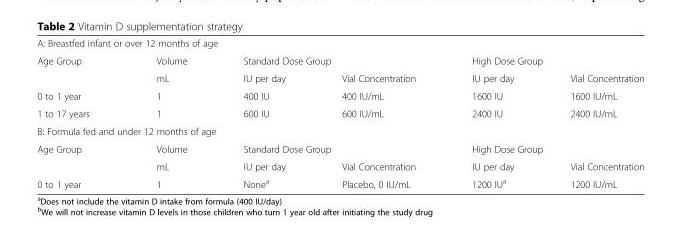table: (36, 37, 643, 189)
table column: (312, 37, 443, 189), (541, 37, 643, 189), (214, 37, 312, 189), (443, 37, 541, 189), (122, 37, 214, 189), (36, 37, 122, 189)
table projected row header: (36, 122, 643, 139), (36, 37, 643, 51)
table row: (36, 51, 643, 69), (36, 86, 643, 104), (36, 104, 643, 122), (36, 139, 643, 157), (36, 69, 643, 86), (36, 122, 643, 139), (36, 157, 643, 174), (36, 174, 643, 189), (36, 37, 643, 51)
table spanning cell: (214, 51, 443, 69), (214, 139, 443, 157), (443, 51, 643, 69), (443, 139, 643, 157), (36, 51, 122, 86), (36, 139, 122, 174)
